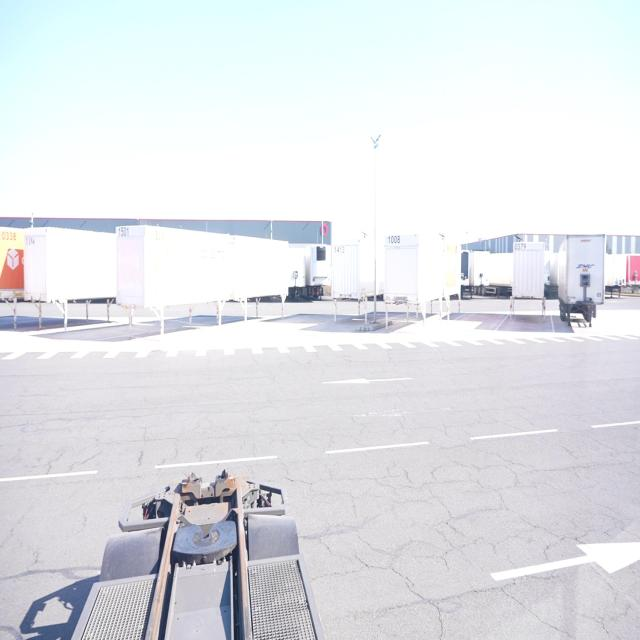Code: (383, 231, 405, 250), (114, 225, 133, 242), (512, 243, 530, 253)
